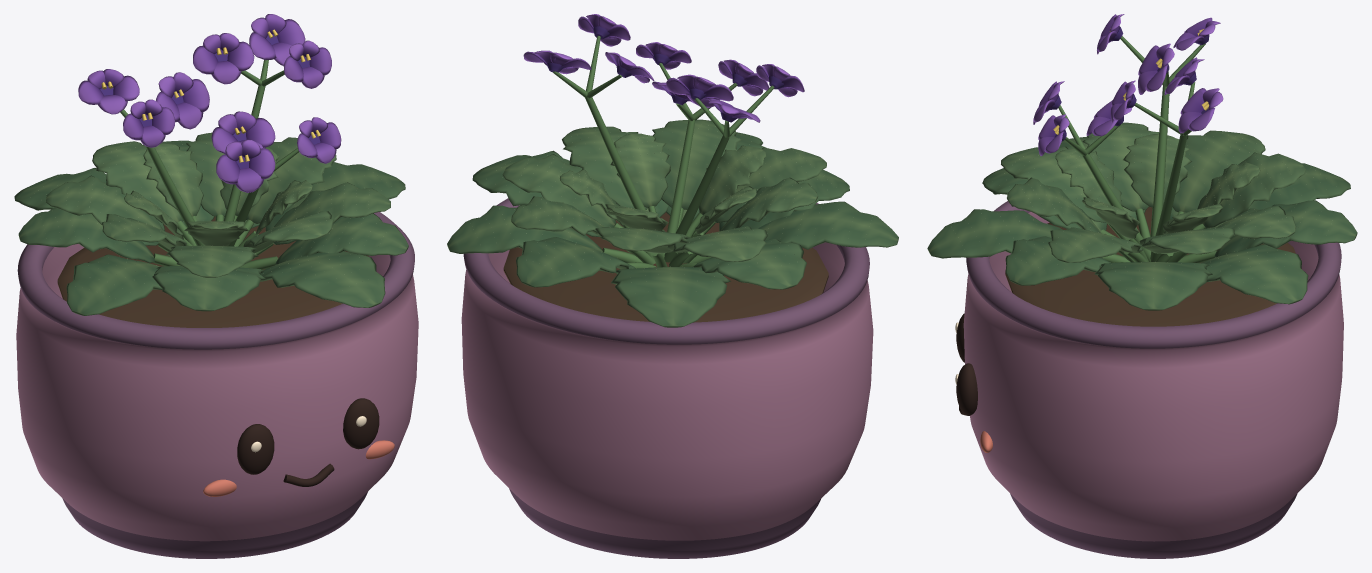
The model's file is african-violet-v1.glb.
The picture shows the model from 3 angles, left to right: view 1: azimuth 30°, elevation 25°; view 2: azimuth 150°, elevation 25°; view 3: azimuth 270°, elevation 25°; orthographic projection. The views are drawn at different scales.
Visible parts, largest first — view 1: Wheel-thrown ceramic, Foliage draw mesh, Soil, Eye, Eye.001; view 2: Wheel-thrown ceramic, Foliage draw mesh, Soil; view 3: Wheel-thrown ceramic, Foliage draw mesh, Soil, Eye.001.
Part boxes in pixels (x1,y1,x2,y2): Wheel-thrown ceramic: (16, 212, 418, 558); Foliage draw mesh: (14, 14, 408, 315); Soil: (57, 216, 368, 327); Eye: (237, 424, 274, 474); Eye.001: (343, 398, 379, 449); Wheel-thrown ceramic: (461, 198, 873, 558); Foliage draw mesh: (447, 14, 898, 327); Soil: (503, 212, 828, 322); Wheel-thrown ceramic: (963, 201, 1343, 558); Foliage draw mesh: (927, 14, 1357, 310); Soil: (1005, 206, 1295, 326); Eye.001: (956, 363, 977, 415).
Bounding box in the file's own units: 1.69 × 1.97 × 1.69.
